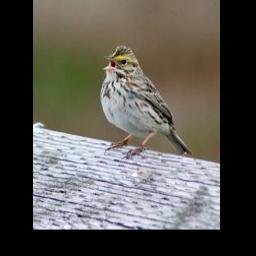Sparrow: (99, 41, 191, 162)
